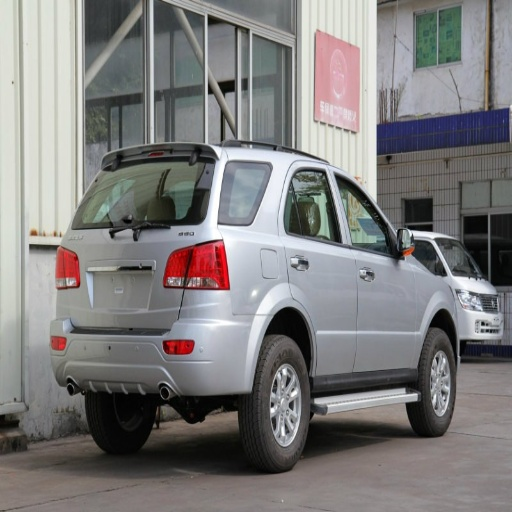back_bumper: (51, 289, 266, 391)
back_right_door: (281, 158, 355, 381)
front_right_door: (333, 170, 420, 373)
trunk: (57, 231, 194, 332)
